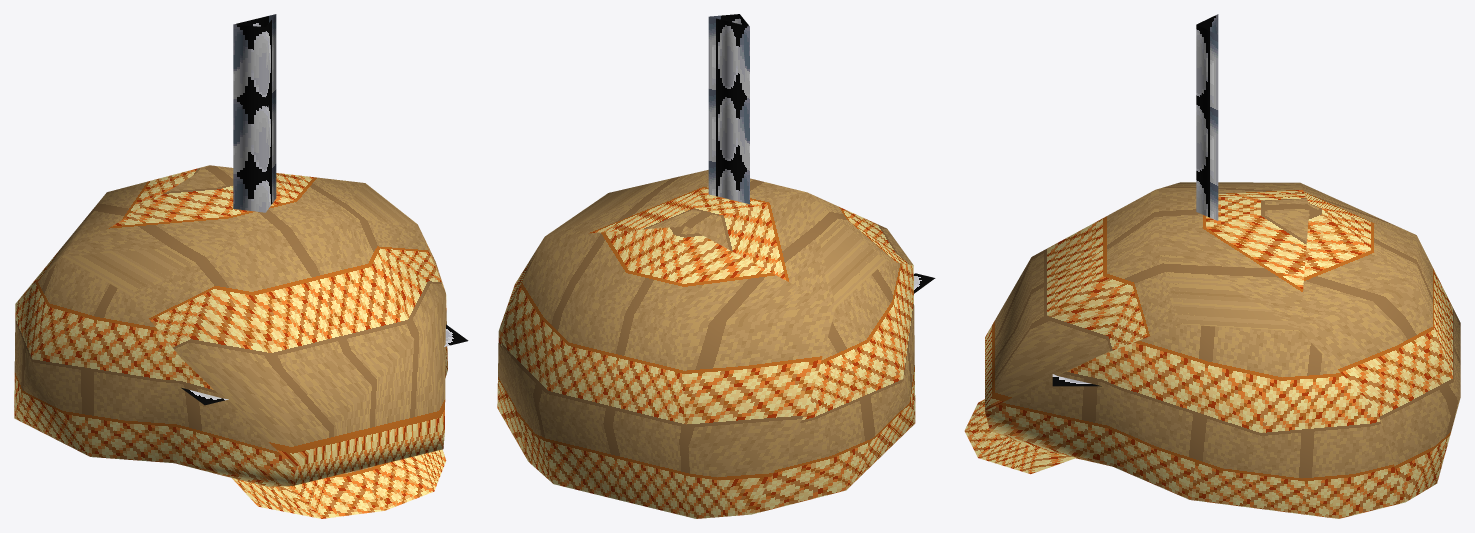
File: 2896head032_c.gltf
3 renders of one model, left to right at view 1: azimuth 30°, elevation 25°; view 2: azimuth 150°, elevation 25°; view 3: azimuth 270°, elevation 25°, orthographic. The views are drawn at different scales.
Visible parts, largest first — view 1: 2896head032_c; view 2: 2896head032_c; view 3: 2896head032_c.
Part boxes in pixels (x1,y1,x2,y2): 2896head032_c: (14,14,468,518); 2896head032_c: (497,14,935,518); 2896head032_c: (964,14,1460,518).
Bounding box in the file's own units: 0.7061 × 0.7007 × 0.7456.
2 materials, 2 textured.
